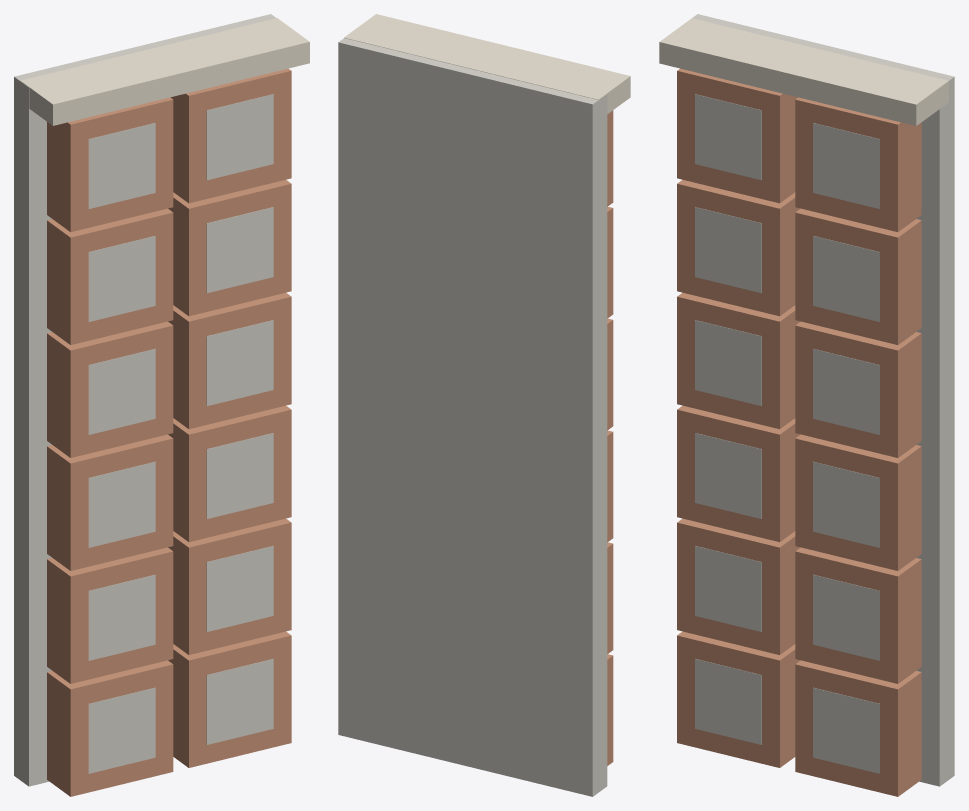
Rendered from roman-bathhouse-and-palaestra-flue-tile-run-d41e3006__37876.glb.
3 renders of one model, left to right at view 1: azimuth 30°, elevation 25°; view 2: azimuth 150°, elevation 25°; view 3: azimuth 330°, elevation 25°, orthographic.
Parts seen in each view (by area): view 1: flue-tile-run; view 2: flue-tile-run; view 3: flue-tile-run.
Boxes of the visible parts, left/top/right/bottom form: flue-tile-run: left=14, top=14, right=309, bottom=796; flue-tile-run: left=338, top=14, right=630, bottom=796; flue-tile-run: left=659, top=14, right=954, bottom=796.
Size of the model in its own units: 1 by 2.6 by 0.2612.
